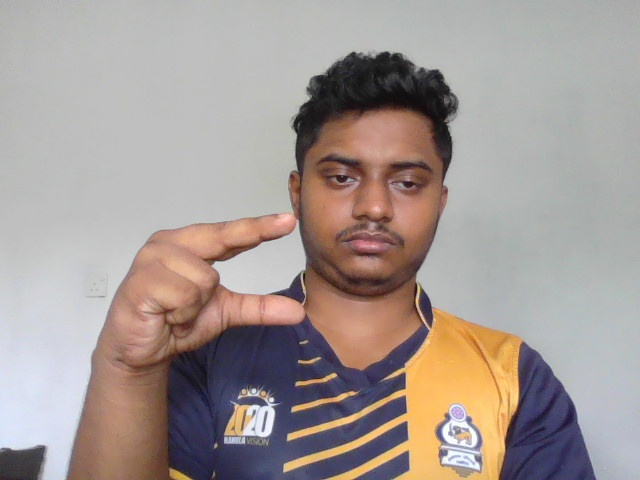No: (107, 213, 310, 359)
